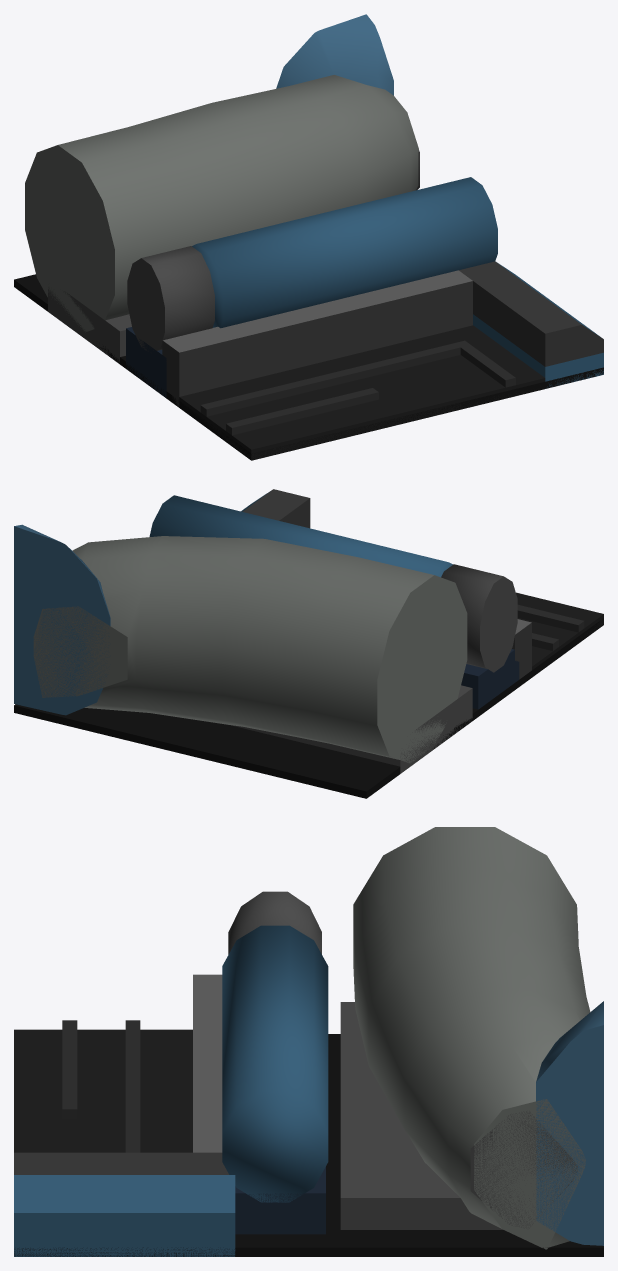
Rendered from newsho-85.glb.
The picture shows the model from 3 angles, top to bottom: view 1: azimuth 30°, elevation 25°; view 2: azimuth 150°, elevation 25°; view 3: azimuth 270°, elevation 25°; orthographic projection. The views are drawn at different scales.
Visible parts, largest first — view 1: newsho-85; view 2: newsho-85; view 3: newsho-85.
Boxes of the visible parts, x1,y1,x2,y2 form: newsho-85: (14, 14, 603, 460); newsho-85: (14, 489, 603, 798); newsho-85: (14, 827, 603, 1256).
Bounding box in the file's own units: 2 × 1.01 × 2.33.
